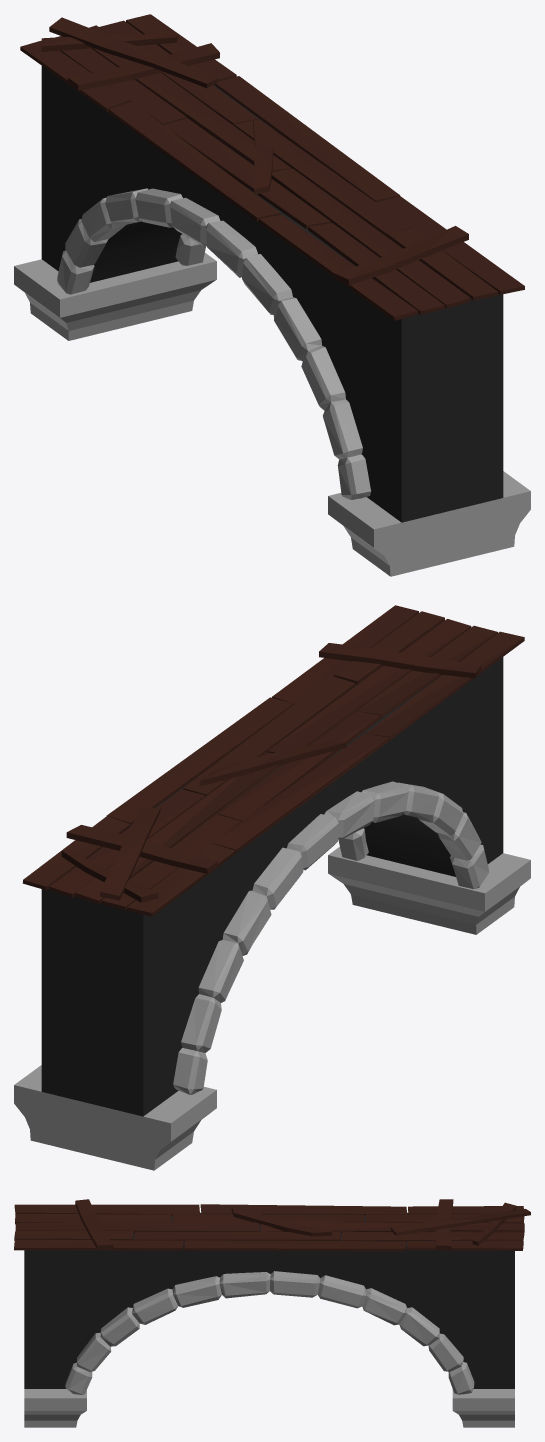
Rendered from civilian_bridge_1_a.FBX.
The picture shows the model from 3 angles, top to bottom: view 1: azimuth 30°, elevation 25°; view 2: azimuth 150°, elevation 25°; view 3: azimuth 270°, elevation 25°; orthographic projection. The views are drawn at different scales.
Parts seen in each view (by area): view 1: civilian_bridge_1_a; view 2: civilian_bridge_1_a; view 3: civilian_bridge_1_a.
Part boxes in pixels (x1,y1,x2,y2): civilian_bridge_1_a: [14, 14, 530, 576]; civilian_bridge_1_a: [14, 605, 530, 1170]; civilian_bridge_1_a: [14, 1199, 530, 1427].
Size of the model in its own units: 266 by 448 by 1112.
